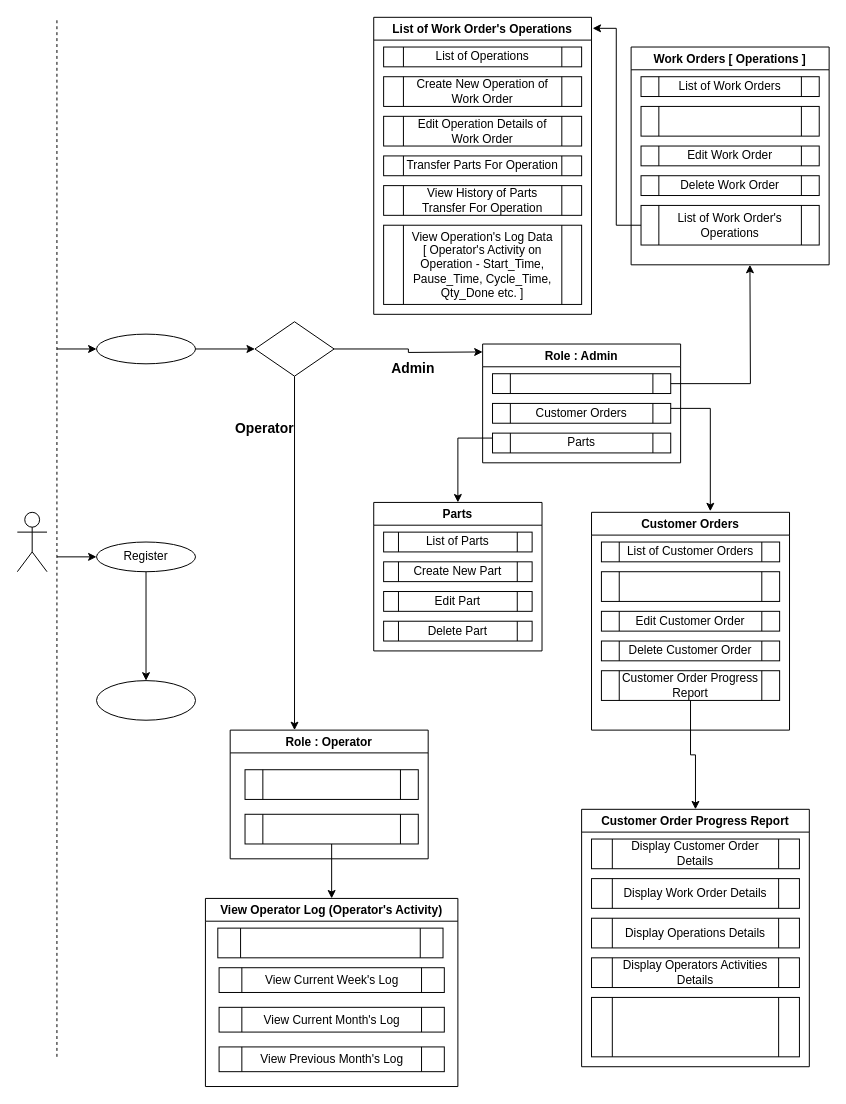
Image size: 846x1104. Some labels were removed from this diagram. Each missing label, with the centre of its shape:
"Actor" goes at [31,541].
"Create Account" goes at [146,700].
"Create New Customer Order" goes at [690,586].
"Create Operator Log" goes at [331,784].
"Create Work Order For Customer Order" goes at [729,120].
"Display Customer Order v/s Operations Progress [ Column Chart Report ]" goes at [695,1026].
"Login" goes at [146,348].
"View Operator Log" goes at [331,828].
"View Today's Log" goes at [330,942].
"Work Orders [Operations]" goes at [581,383].
